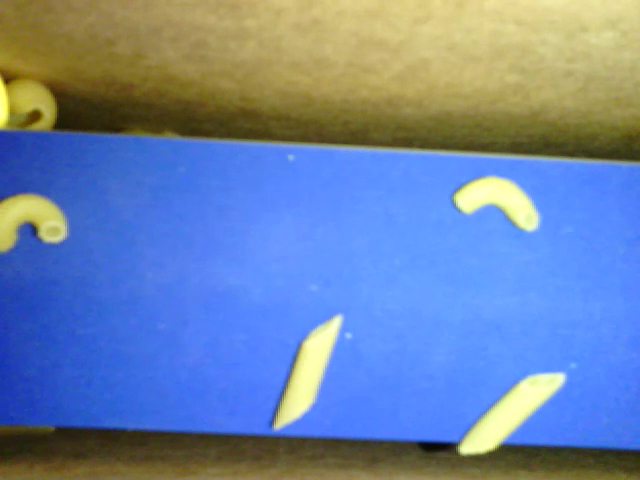elbow: (453, 174, 540, 235), (3, 188, 68, 256)
penne: (459, 370, 568, 455), (273, 310, 345, 433)
shell: (4, 77, 60, 138)
